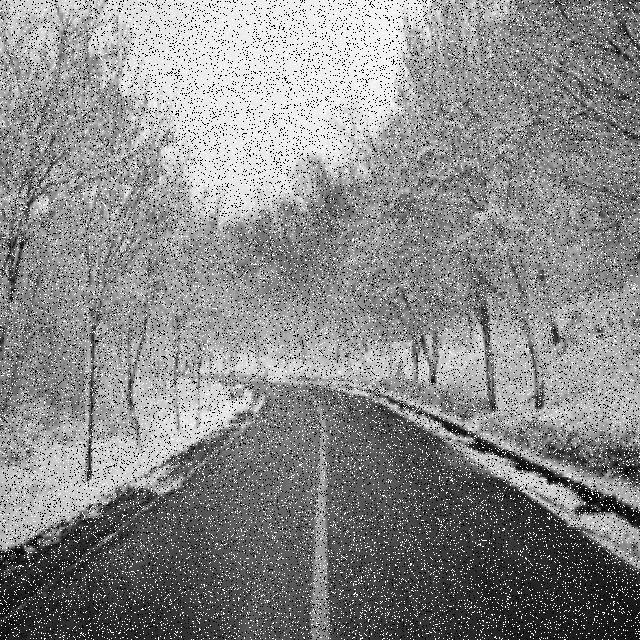ice-road: (310, 392, 640, 640), (0, 386, 320, 640)
